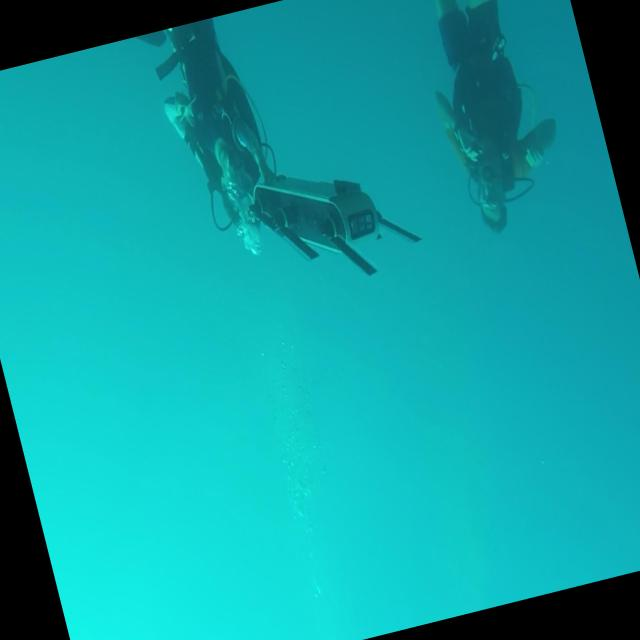human: (402, 0, 579, 242), (145, 11, 298, 268)
